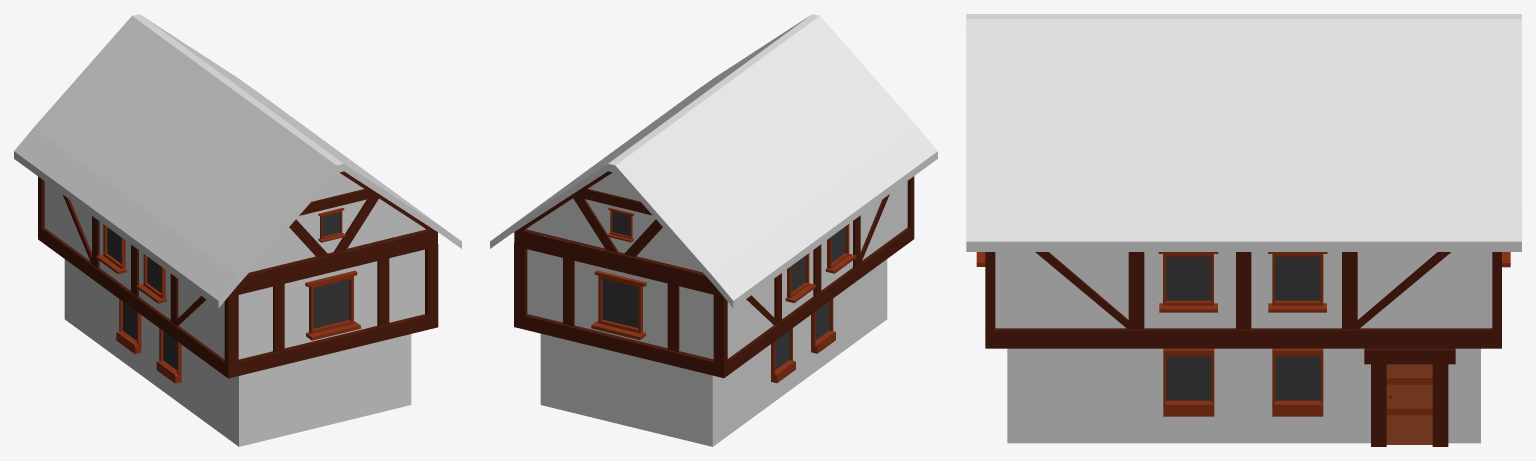
The model's file is House.fbx.
The picture shows the model from 3 angles, left to right: view 1: azimuth 30°, elevation 25°; view 2: azimuth 150°, elevation 25°; view 3: azimuth 270°, elevation 25°; orthographic projection. The views are drawn at different scales.
Parts seen in each view (by area): view 1: Cube.004, Cube.003, Cube.005, Cube.002, Cube.009; view 2: Cube.004, Cube.003, Cube.005, Cube.002, Cube.009; view 3: Cube.004, Cube.003, Cube.002, Cube.005, Cube.009, Cube.006.
Boxes of the visible parts, left/top/right/bottom form: Cube.004: left=14, top=14, right=461, bottom=308; Cube.003: left=64, top=259, right=411, bottom=446; Cube.005: left=38, top=171, right=438, bottom=378; Cube.002: left=44, top=172, right=425, bottom=359; Cube.009: left=96, top=207, right=369, bottom=383; Cube.004: left=490, top=14, right=937, bottom=308; Cube.003: left=540, top=259, right=887, bottom=446; Cube.005: left=514, top=171, right=914, bottom=378; Cube.002: left=526, top=172, right=907, bottom=359; Cube.009: left=586, top=207, right=856, bottom=383; Cube.004: left=966, top=14, right=1521, bottom=251; Cube.003: left=1007, top=348, right=1480, bottom=443; Cube.002: left=966, top=24, right=1492, bottom=328; Cube.005: left=985, top=252, right=1501, bottom=348; Cube.009: left=976, top=252, right=1510, bottom=416; Cube.006: left=1364, top=348, right=1455, bottom=446.
Bounding box in the file's own units: 330 × 353 × 481.
